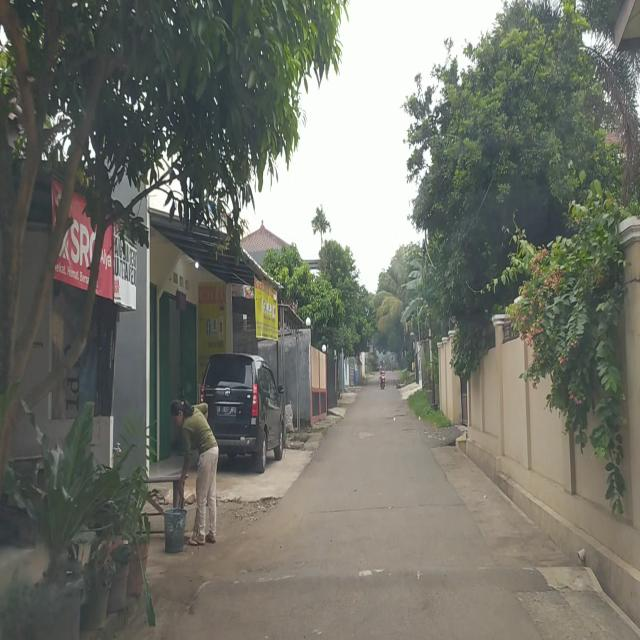Sewer Cover: (305, 503, 466, 516)
